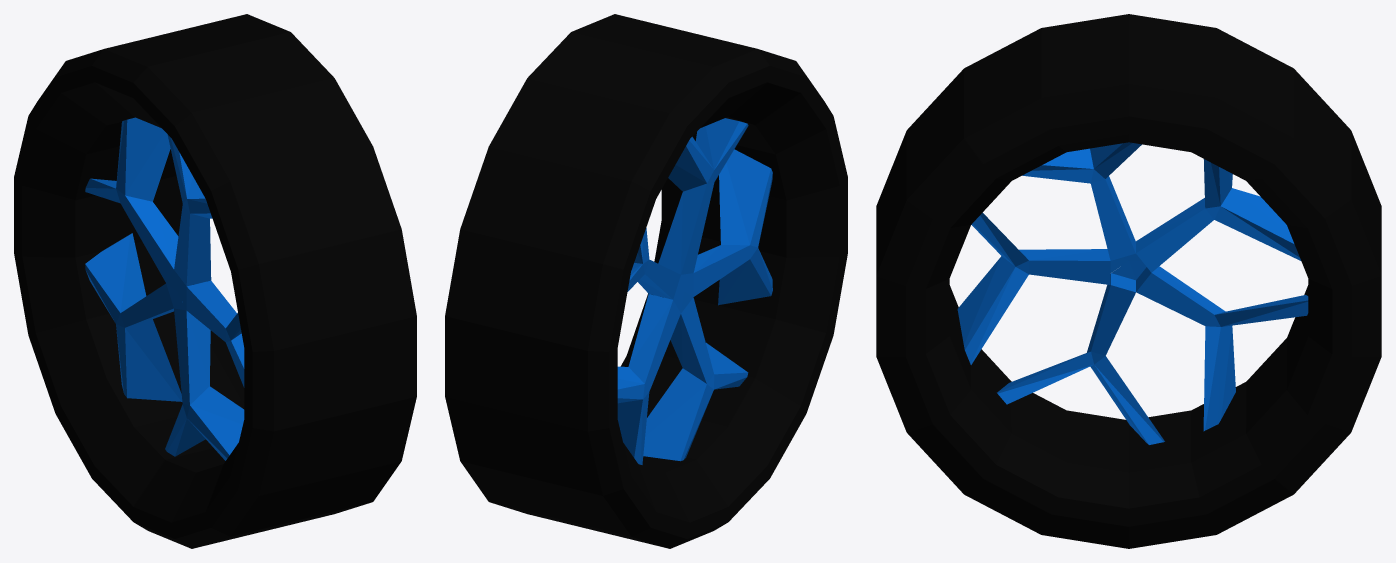
The model's file is wheel.obj.
3 views of the same model, side by side, from view 1: azimuth 30°, elevation 25°; view 2: azimuth 150°, elevation 25°; view 3: azimuth 270°, elevation 25° (orthographic).
Parts seen in each view (by area): view 1: wheel; view 2: wheel; view 3: wheel.
Boxes of the visible parts, x1,y1,x2,y2 form: wheel: (14,14,416,548); wheel: (445,14,847,548); wheel: (876,14,1381,548).
Size of the model in its own units: 0.3448 by 0.9086 by 0.8948.
